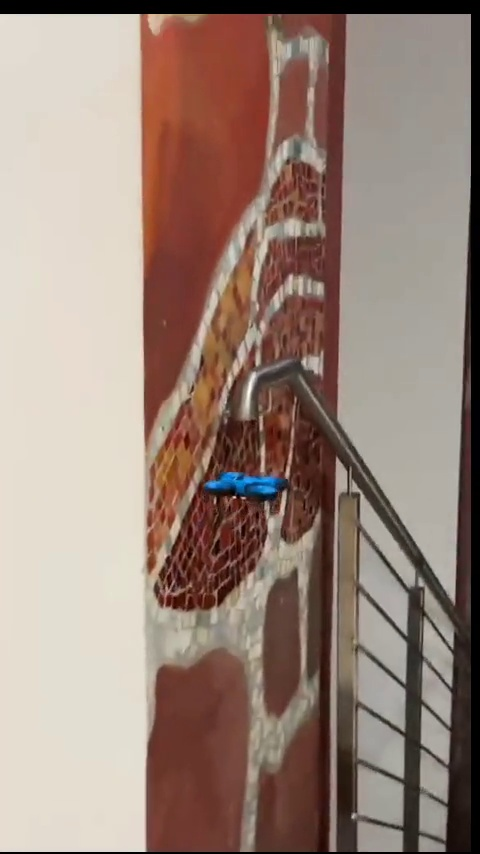drone: (206, 466, 288, 503)
